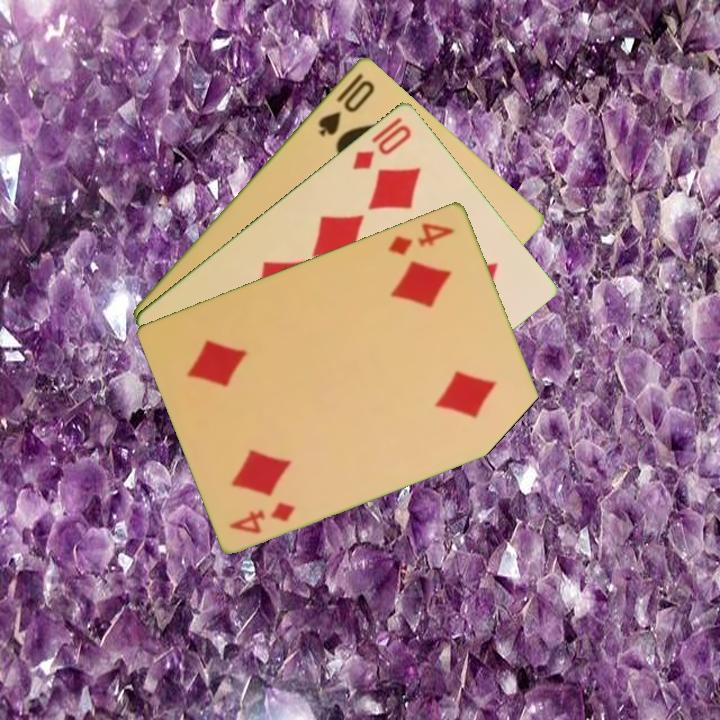10d: (349, 120, 415, 173)
10s: (314, 75, 378, 140)
4d: (226, 497, 299, 537), (385, 218, 457, 258)
